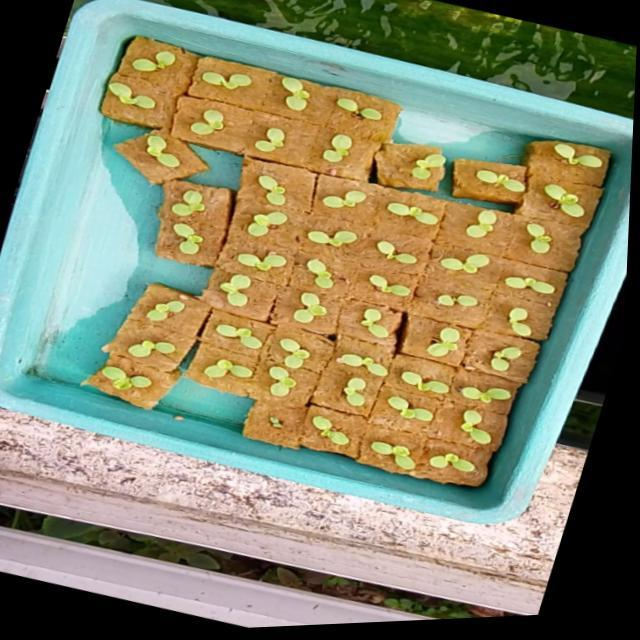Baby: (138, 54, 203, 90), (159, 143, 210, 188), (534, 224, 587, 266), (145, 85, 194, 122), (378, 319, 426, 353), (451, 303, 511, 330), (256, 255, 305, 287), (238, 335, 291, 363), (487, 400, 547, 424), (209, 77, 269, 101), (399, 459, 446, 489), (519, 359, 558, 395), (252, 221, 306, 247), (363, 367, 416, 392), (123, 379, 173, 404), (338, 432, 378, 462), (428, 385, 479, 408), (190, 192, 223, 227), (398, 250, 443, 275), (318, 303, 352, 336), (454, 340, 489, 372), (242, 285, 274, 319), (492, 426, 522, 461), (464, 264, 515, 284), (300, 86, 329, 121), (304, 351, 335, 383), (391, 285, 434, 308), (458, 470, 506, 490), (277, 183, 305, 216), (532, 286, 583, 304), (329, 240, 379, 258), (327, 269, 356, 300), (226, 376, 273, 395), (211, 120, 245, 146), (343, 143, 373, 172), (294, 379, 322, 410), (150, 352, 198, 370), (168, 312, 207, 334), (491, 219, 521, 247), (192, 240, 223, 266), (534, 319, 559, 350), (274, 137, 305, 161), (423, 418, 462, 437), (370, 392, 393, 423), (351, 200, 385, 218)
